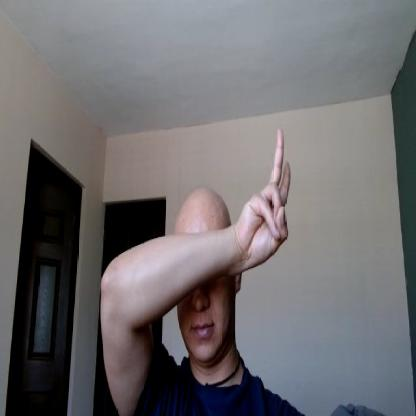V: (238, 127, 292, 272)
